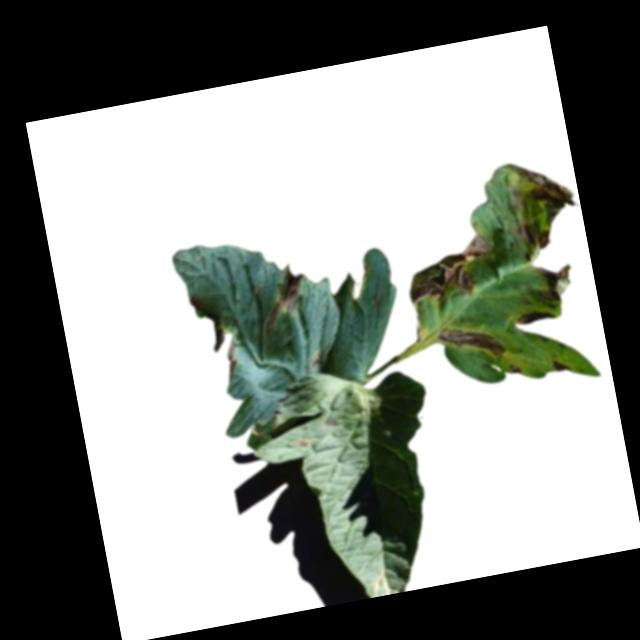Early_blight: (400, 232, 500, 307), (507, 152, 578, 220), (254, 267, 314, 336), (436, 315, 509, 370), (531, 258, 580, 307), (511, 214, 554, 255), (516, 307, 558, 327), (549, 357, 572, 377), (290, 436, 315, 452), (507, 363, 524, 378), (323, 416, 341, 430)
